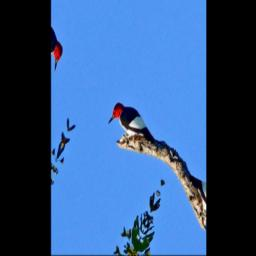Woodpecker: (103, 83, 170, 174)
